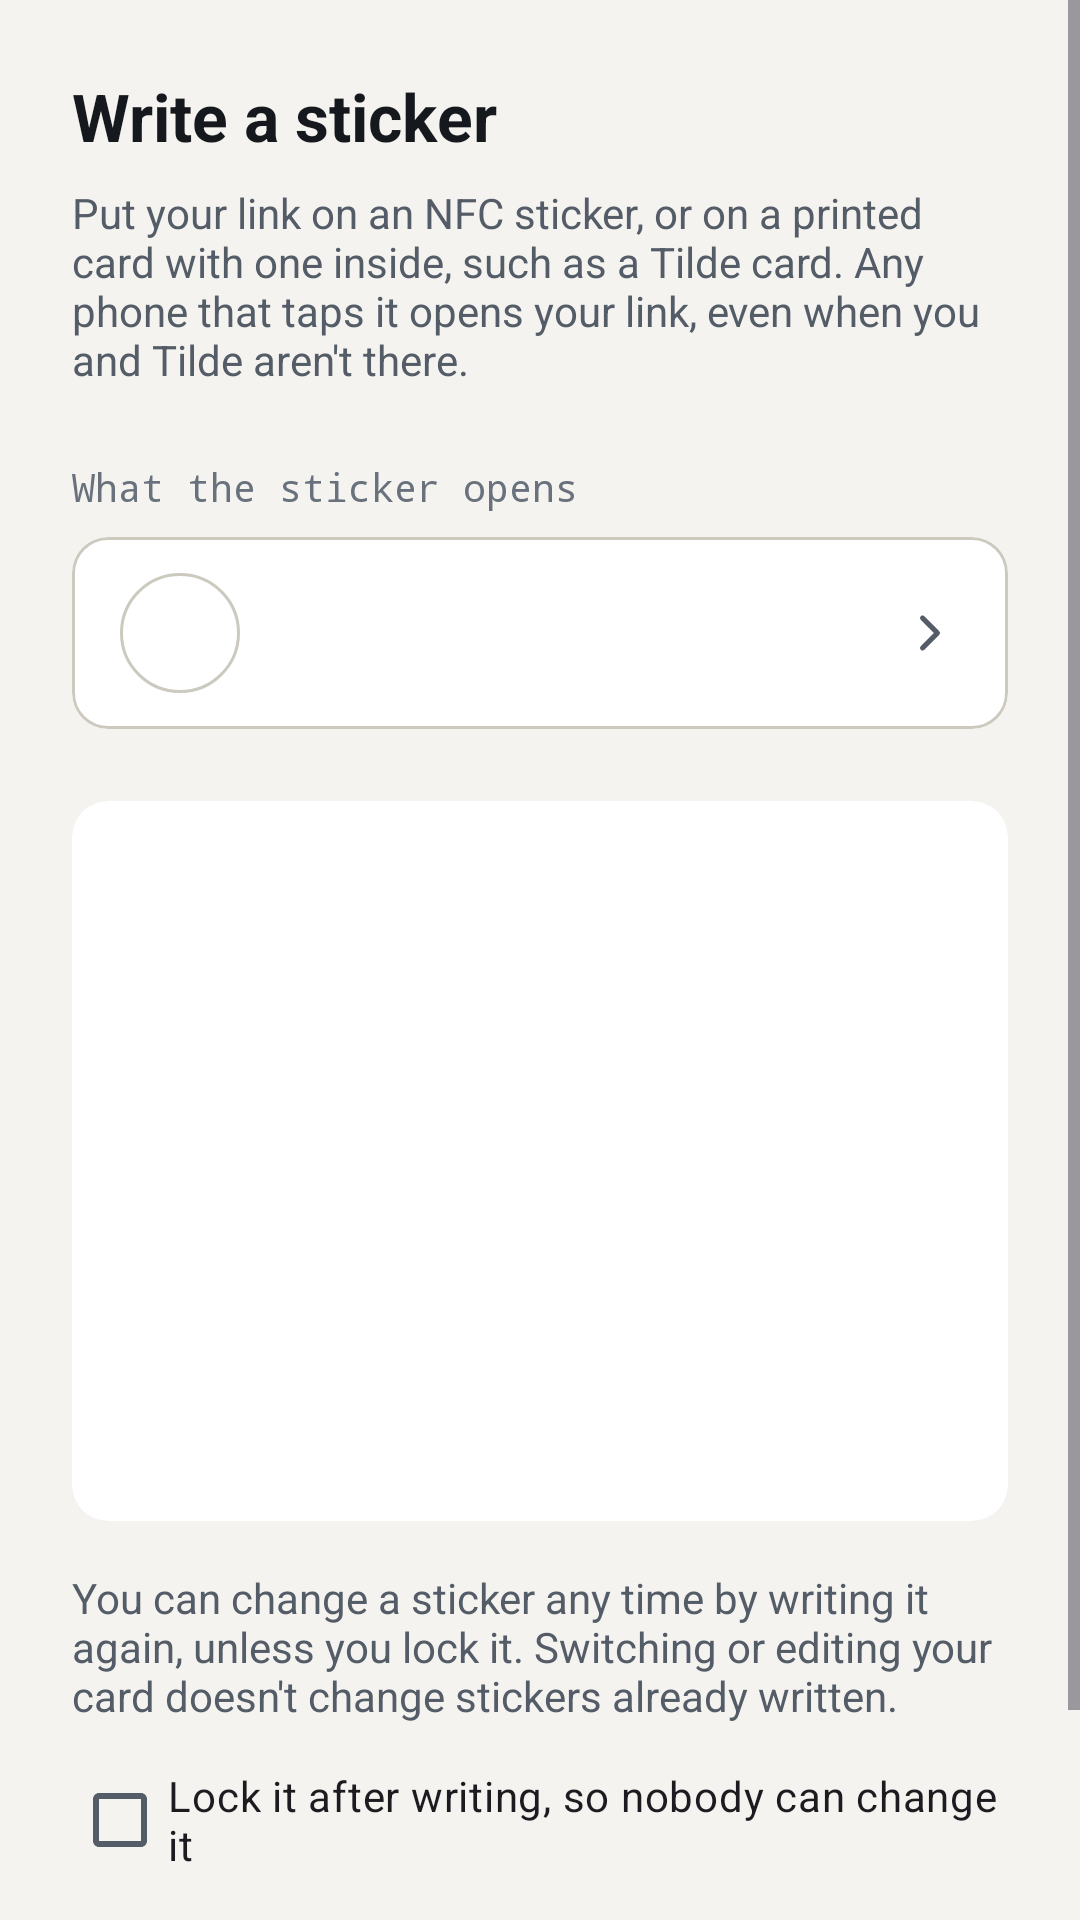

Point at icon controls on the screen. Image size 1080×1920, points as (x=x, y=y).
chevron: (x=930, y=633)
